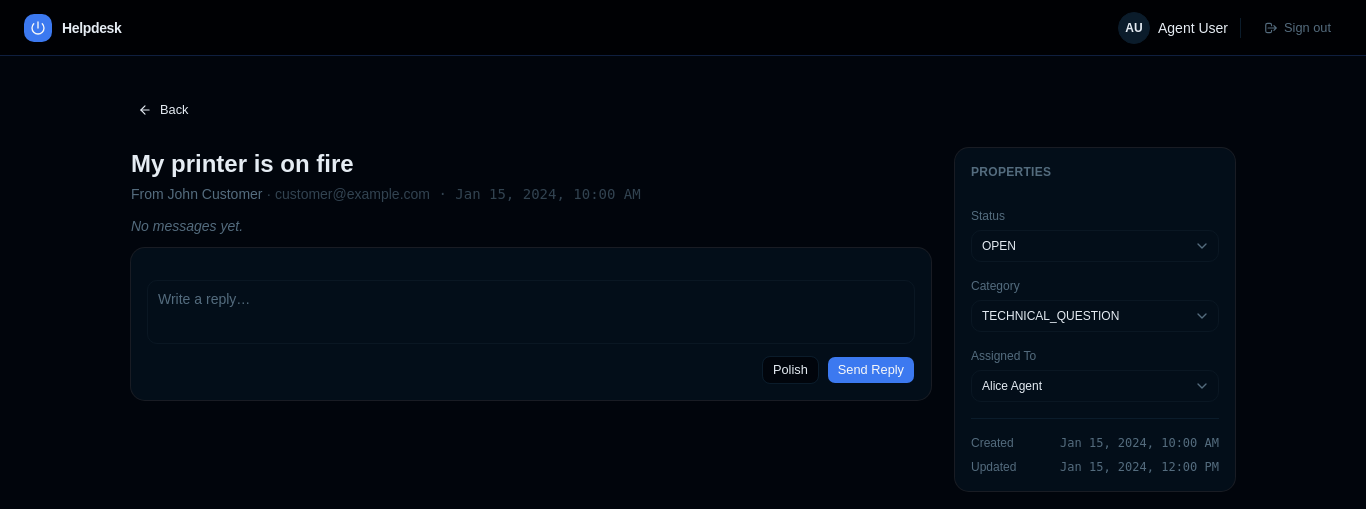
Test case: TicketDetailPage › assignment › shows the assigned agent as the selected option when a ticket is assigned
Expected: the heading "My printer is on fire" is shown, 131,150 -> 354,177
Click the dropdown named "Assigned To".
click(1095, 386)  # box 971,370 -> 1219,402
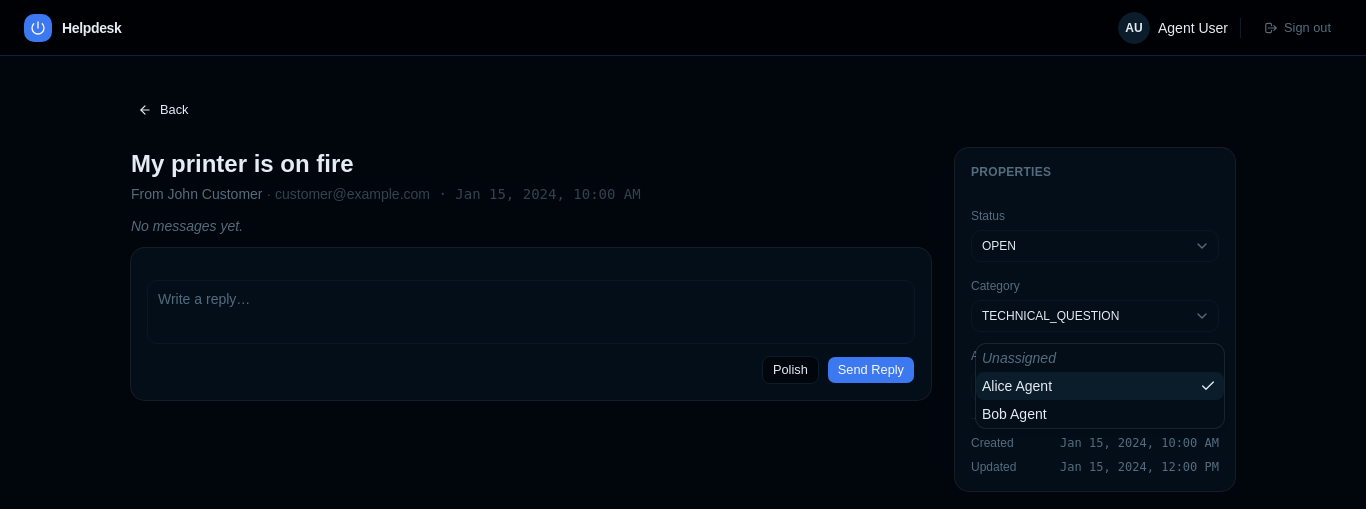
Result: the option "Alice Agent" is shown at 976,372 -> 1224,400
